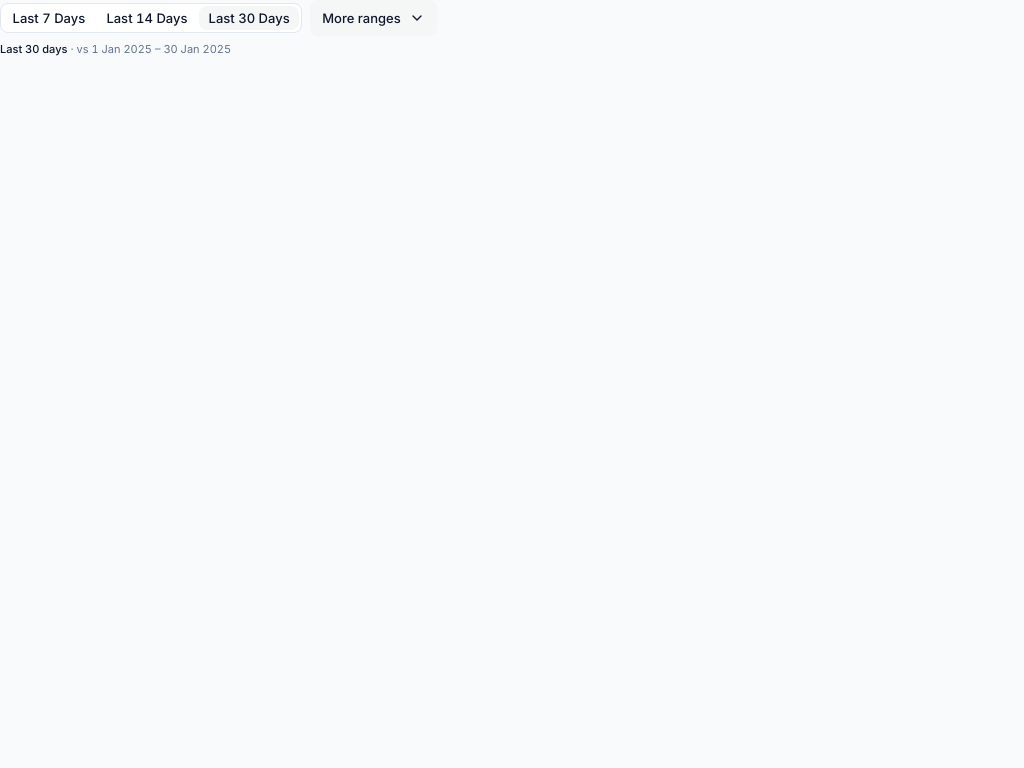
Test: RangeBar › a custom comparison: highlighted button, none of the three compare links current, the form holds the days
Expected: the message shows "vs 1 Jan 2025 – 30 Jan 2025", x1=67 y1=42 x2=231 y2=56
Click the button "More ranges" at point(373, 18), box x1=310 y1=0 x2=437 y2=36
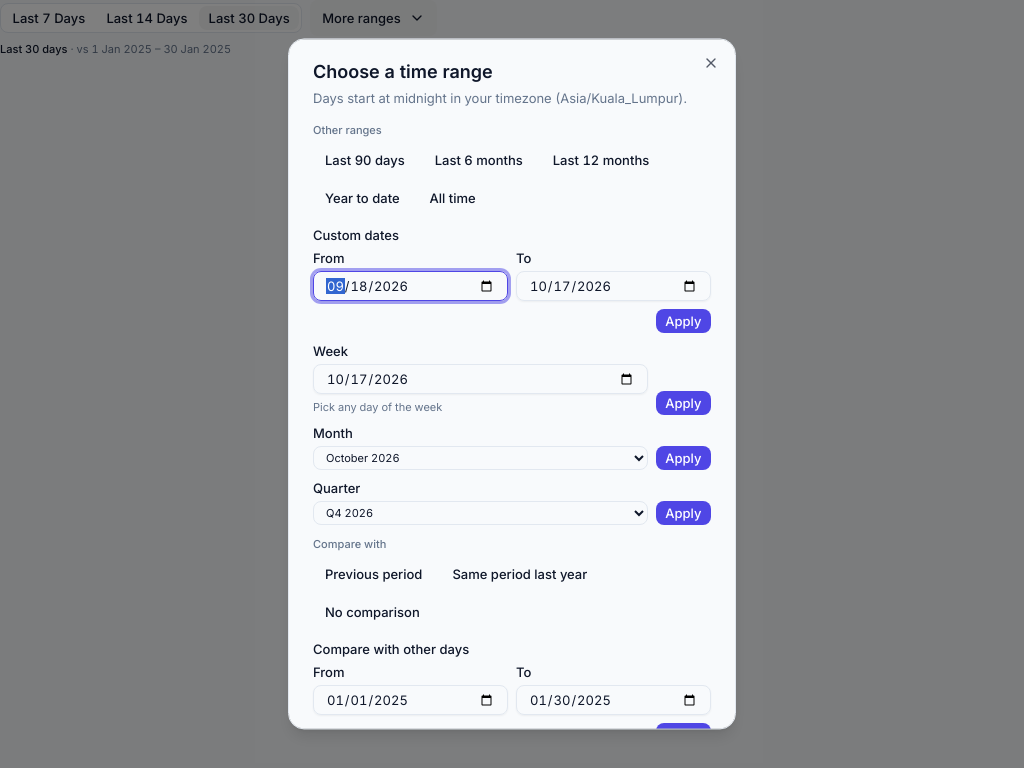
Expected: the date field named "cfrom" holds "2025-01-01", x1=313 y1=686 x2=508 y2=716
